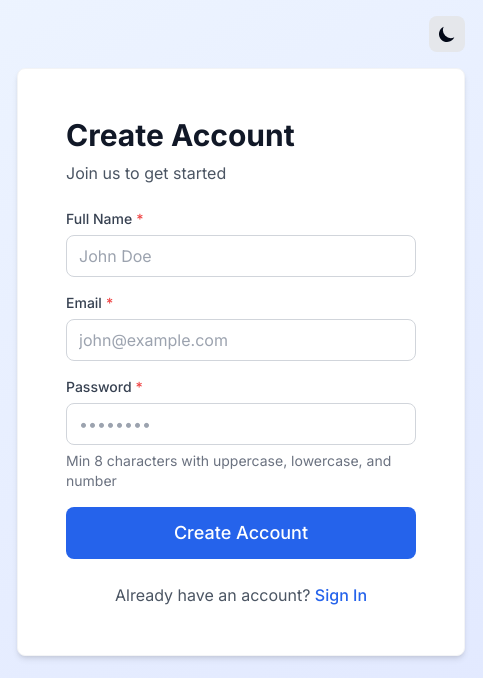
User Registration Flow › should navigate to login page when clicking Sign In link
Click the link "Sign In": (341, 595) [315,585,367,605]
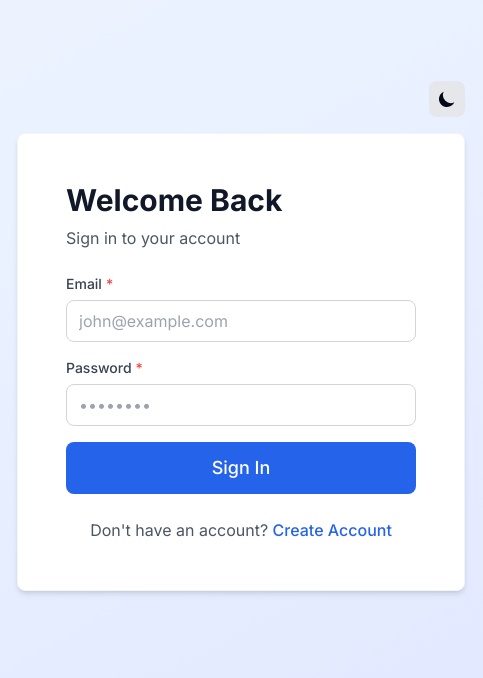
Now the heading "Welcome Back" is shown, box [66,182,282,218]
